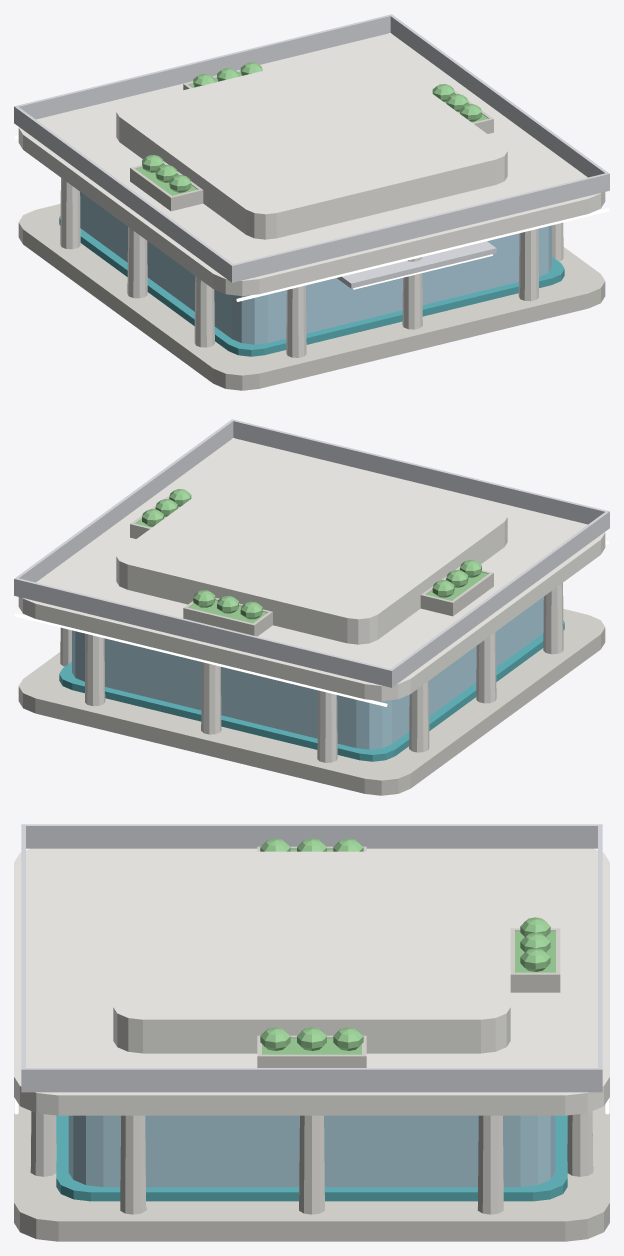
The model's file is arcology-towers-and-skyways-podium-base-9476a49a__23234.glb.
The picture shows the model from 3 angles, top to bottom: view 1: azimuth 30°, elevation 25°; view 2: azimuth 150°, elevation 25°; view 3: azimuth 270°, elevation 25°; orthographic projection. The views are drawn at different scales.
Visible parts, largest first — view 1: podium-base; view 2: podium-base; view 3: podium-base.
Part boxes in pixels (left/top/right/bottom): podium-base: left=14, top=14, right=609, bottom=390; podium-base: left=14, top=419, right=609, bottom=795; podium-base: left=14, top=824, right=609, bottom=1241.
Size of the model in its own units: 24 by 8.04 by 24.
